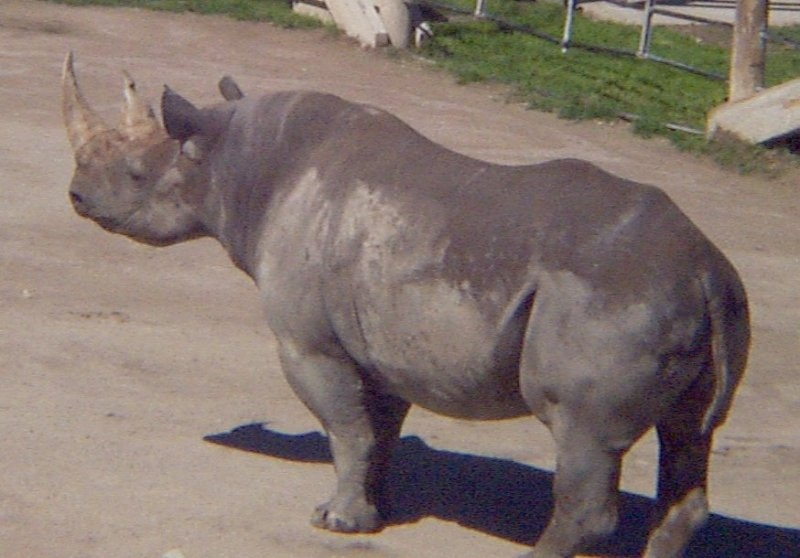rhino: (60, 47, 755, 558)
